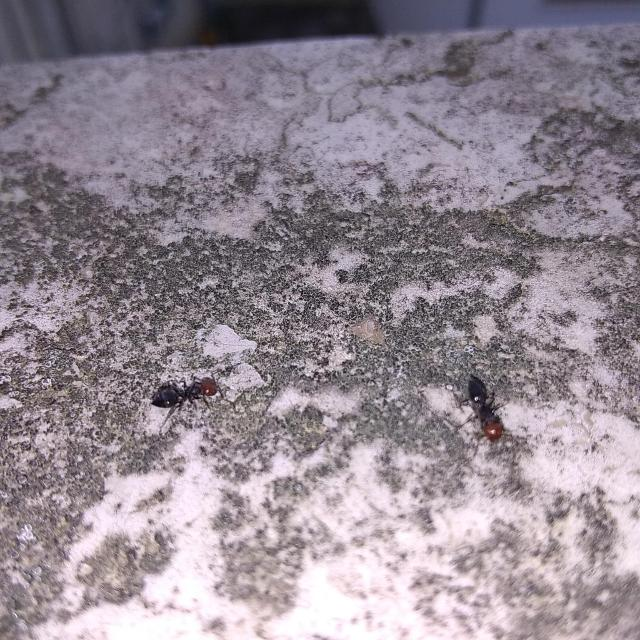Crematogaster: (462, 372, 503, 448), (152, 372, 228, 412)
